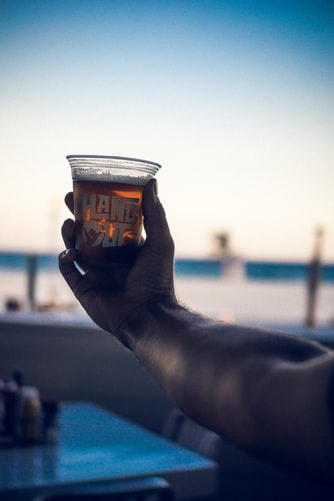whiskey: (73, 155, 160, 308)
